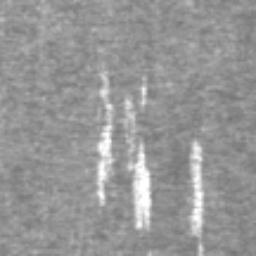White rust: (122, 92, 153, 232), (95, 60, 118, 208), (187, 137, 206, 256), (141, 73, 149, 106)
